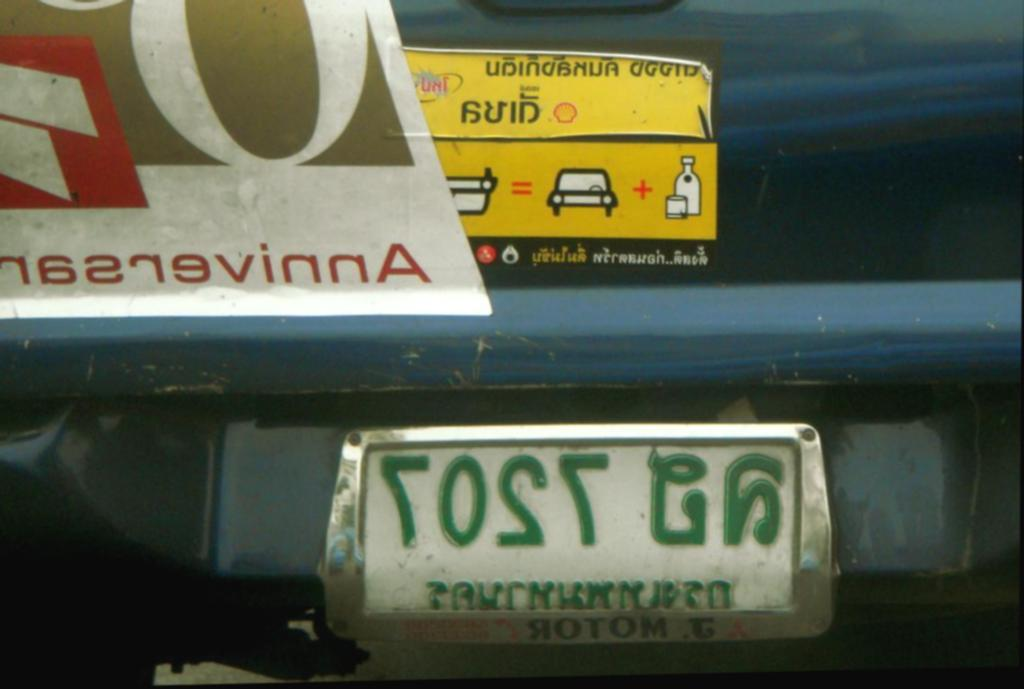License_Plate: (318, 415, 837, 658)
